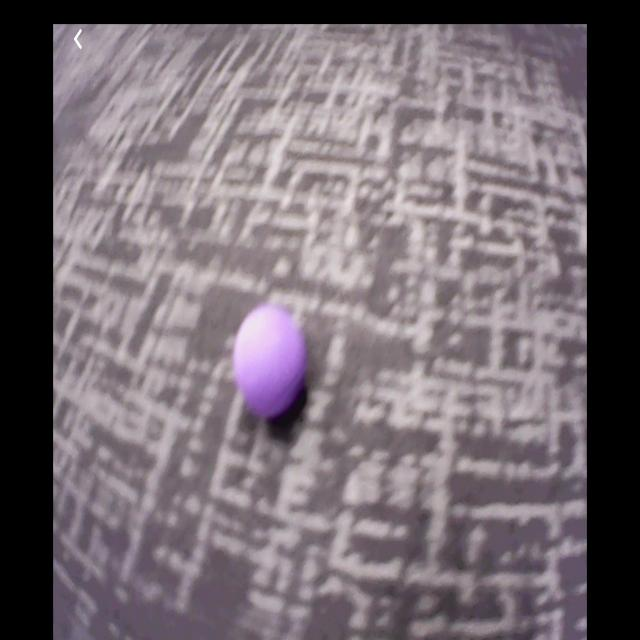ball: (236, 308, 304, 411)
